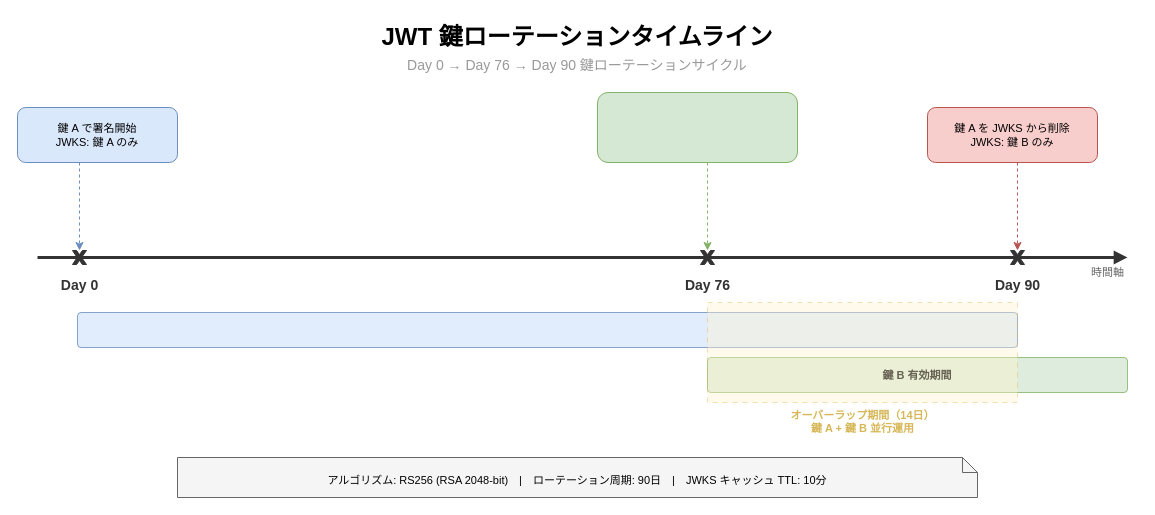
Image size: 1155x515. Some labels were removed from this diagram. Each missing label, with the centre of its shape:
鍵 A 有効期間: [547,330]
鍵 B 生成・JWKS 追加 新規トークン: 鍵 B で署名 鍵 A トークンも検証可能: [697,127]
